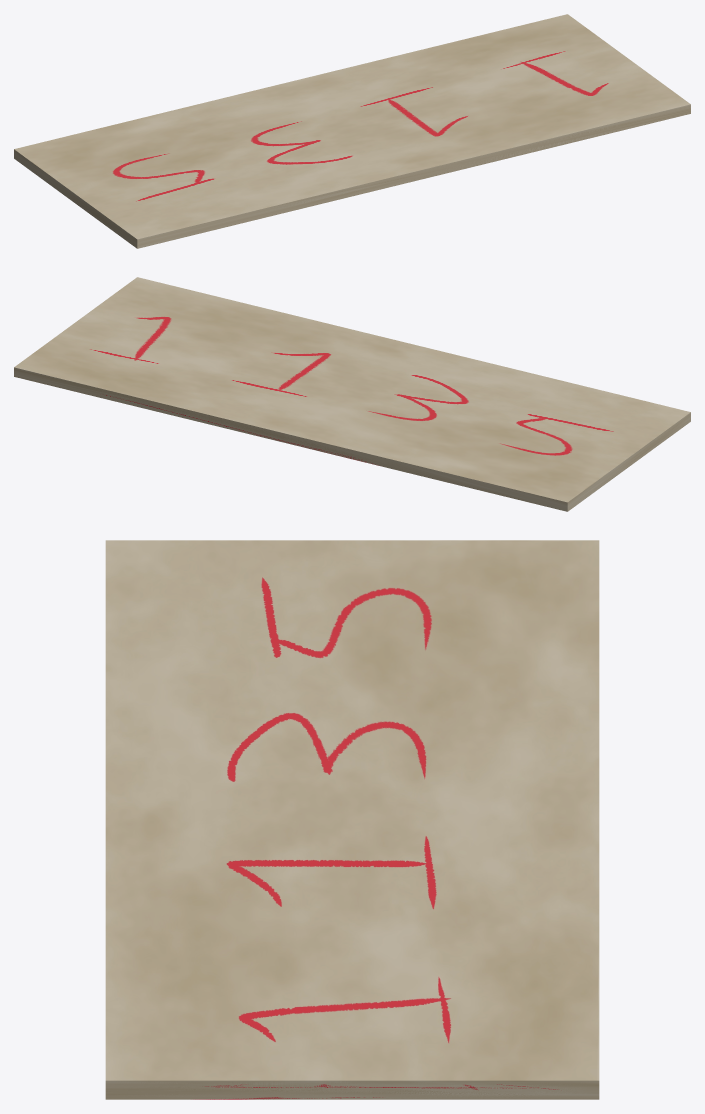
The model's file is Clue.fbx.
The picture shows the model from 3 angles, top to bottom: view 1: azimuth 30°, elevation 25°; view 2: azimuth 150°, elevation 25°; view 3: azimuth 270°, elevation 25°; orthographic projection. The views are drawn at different scales.
Visible parts, largest first — view 1: Cube, Cube_cell.003, Cube_cell.001, Cube_cell.002, Cube_cell; view 2: Cube, Cube_cell.001, Cube_cell.003, Cube_cell; view 3: Cube, Cube_cell.003, Cube_cell.001, Cube_cell.002.
Part boxes in pixels (x1=…): Cube: x1=14, y1=14, x2=690, y2=248; Cube_cell.003: x1=14, y1=80, x2=369, y2=201; Cube_cell.001: x1=297, y1=14, x2=623, y2=127; Cube_cell.002: x1=366, y1=77, x2=673, y2=181; Cube_cell: x1=73, y1=173, x2=410, y2=248; Cube: x1=14, y1=277, x2=690, y2=511; Cube_cell.001: x1=14, y1=326, x2=347, y2=442; Cube_cell.003: x1=284, y1=375, x2=627, y2=511; Cube_cell: x1=627, y1=412, x2=690, y2=467; Cube: x1=105, y1=540, x2=599, y2=1099; Cube_cell.003: x1=266, y1=540, x2=599, y2=817; Cube_cell.001: x1=337, y1=816, x2=599, y2=1099; Cube_cell.002: x1=105, y1=806, x2=372, y2=1099.
Size of the model in its own units: 368 by 6 by 142.
